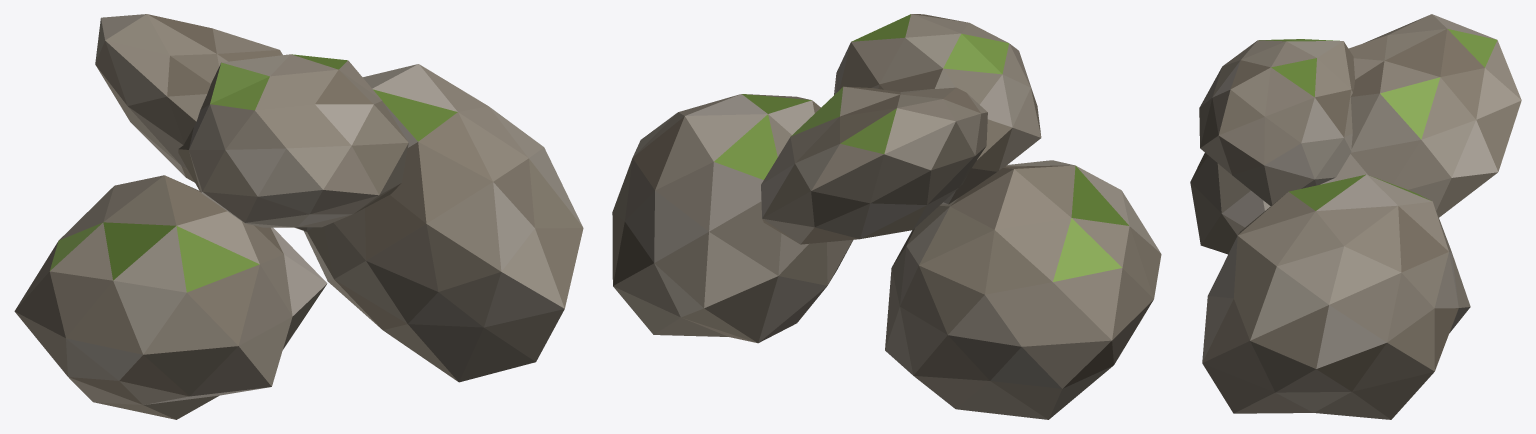
The model's file is CollapsedRocks_b.fbx.
3 views of the same model, side by side, from view 1: azimuth 30°, elevation 25°; view 2: azimuth 150°, elevation 25°; view 3: azimuth 270°, elevation 25° (orthographic). The views are drawn at different scales.
Visible parts, largest first — view 1: CollapsedRocks_b; view 2: CollapsedRocks_b; view 3: CollapsedRocks_b.
Boxes of the visible parts, x1=… form: CollapsedRocks_b: x1=14, y1=14, x2=583, y2=419; CollapsedRocks_b: x1=612, y1=14, x2=1161, y2=419; CollapsedRocks_b: x1=1190, y1=14, x2=1521, y2=419.
Size of what is drawn, in the model's own units: 87.06 by 55.8 by 56.95.
